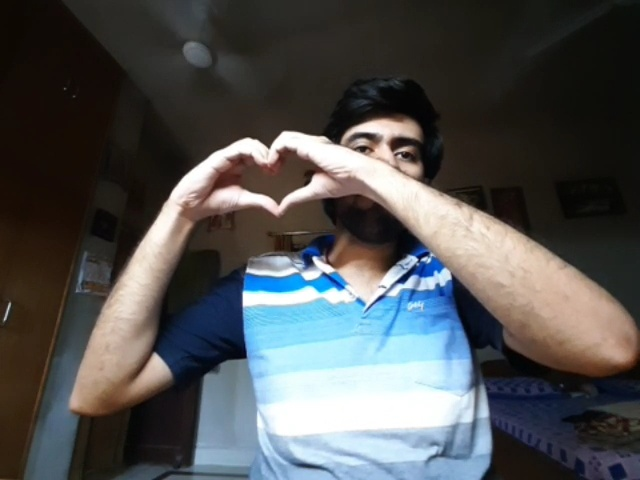Love: (179, 130, 349, 218)
